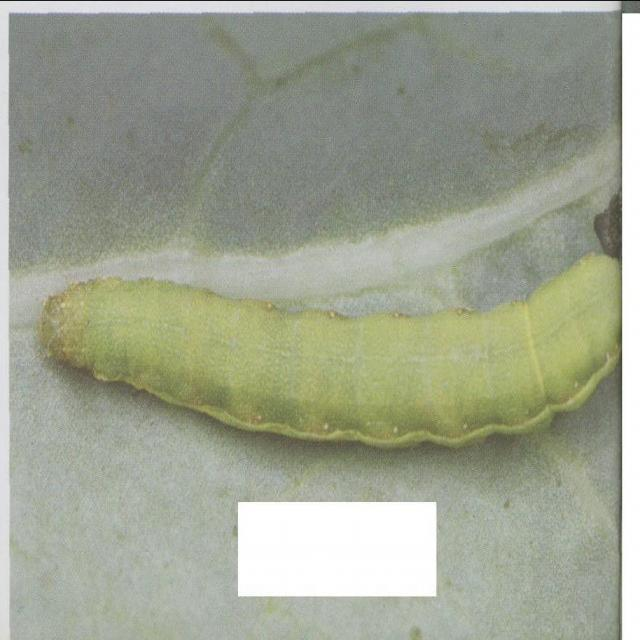BeetArmyWorm-Larva-: (36, 247, 620, 458)
